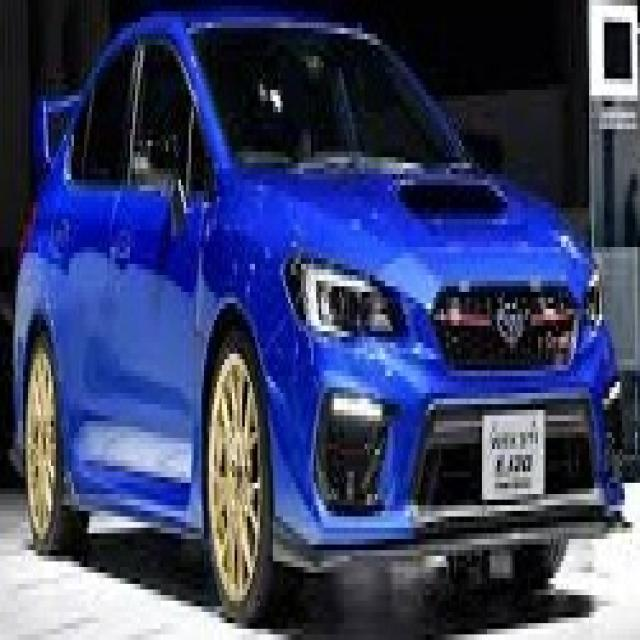blue: (10, 12, 631, 593)
